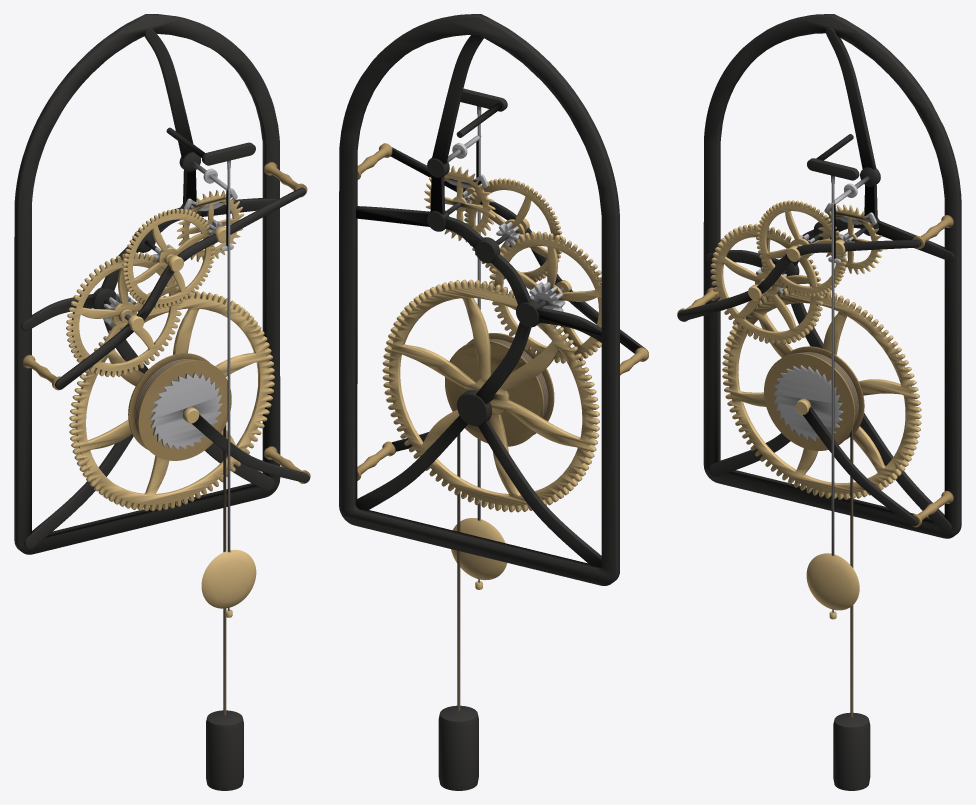
The model's file is clockwork.glb.
3 renders of one model, left to right at view 1: azimuth 30°, elevation 25°; view 2: azimuth 150°, elevation 25°; view 3: azimuth 330°, elevation 25°, orthographic. The views are drawn at different scales.
Parts seen in each view (by area): view 1: frame_back, great_wheel, frame, centre_wheel, barrel, third_wheel, ratchet, weight, bridge_front, bob, pendulum_rod, cock_great (+3 smaller); view 2: frame_back, great_wheel, frame, centre_wheel, barrel, weight, third_wheel, bob, escape_wheel, bridge_front, rope_drop, boss_g (+3 smaller); view 3: frame_back, great_wheel, frame, centre_wheel, barrel, ratchet, third_wheel, weight, bob, bridge_front, cock_great, pendulum_rod (+3 smaller).
Part boxes in pixels (x1,y1,x2,y2): frame_back: (14, 14, 280, 554); great_wheel: (69, 291, 274, 511); frame: (21, 28, 276, 549); centre_wheel: (66, 252, 182, 377); barrel: (128, 353, 231, 460); third_wheel: (122, 208, 215, 308); ratchet: (149, 372, 222, 450); weight: (206, 710, 243, 790); bridge_front: (55, 187, 306, 389); bob: (201, 549, 256, 608); pendulum_rod: (227, 164, 230, 552); cock_great: (192, 414, 309, 482); frame_back: (339, 14, 619, 585); great_wheel: (382, 279, 599, 512); frame: (356, 35, 601, 567); centre_wheel: (489, 231, 601, 363); barrel: (445, 333, 554, 446); weight: (438, 705, 478, 790); third_wheel: (464, 178, 562, 282); bob: (451, 518, 507, 580); escape_wheel: (424, 165, 495, 242); bridge_front: (390, 147, 648, 353); rope_drop: (457, 433, 460, 710); boss_g: (457, 390, 491, 426); frame_back: (703, 14, 961, 538); great_wheel: (722, 288, 921, 499); frame: (706, 27, 954, 533); centre_wheel: (710, 223, 823, 344); barrel: (764, 346, 864, 450); ratchet: (773, 365, 843, 440); third_wheel: (756, 200, 846, 297); weight: (833, 712, 870, 790); bob: (806, 553, 859, 610); bridge_front: (677, 239, 921, 321); cock_great: (803, 407, 918, 526); pendulum_rod: (831, 179, 834, 555).
Size of the model in its own units: 5.74 by 16.01 by 1.75.
